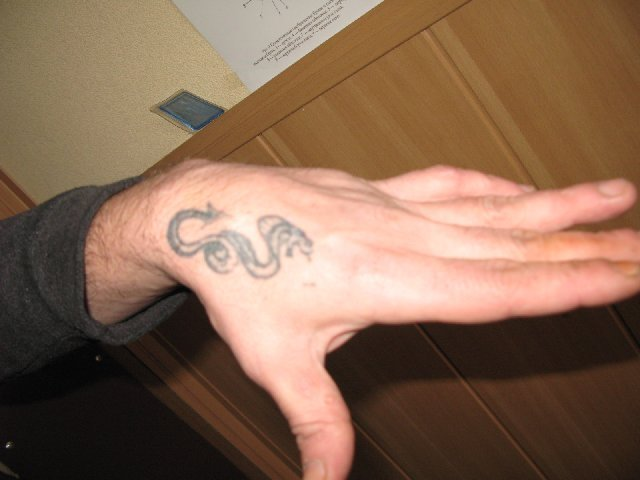tatu7_zmeya: (166, 207, 317, 293)
